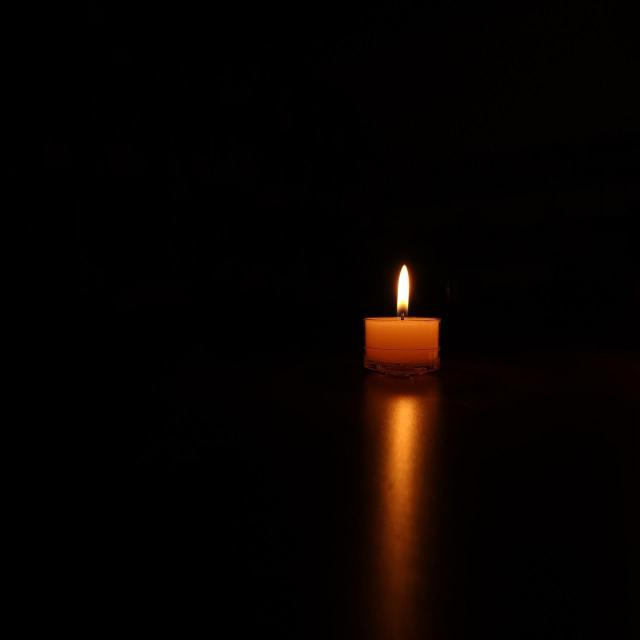Fire_Save: (362, 263, 442, 379)
